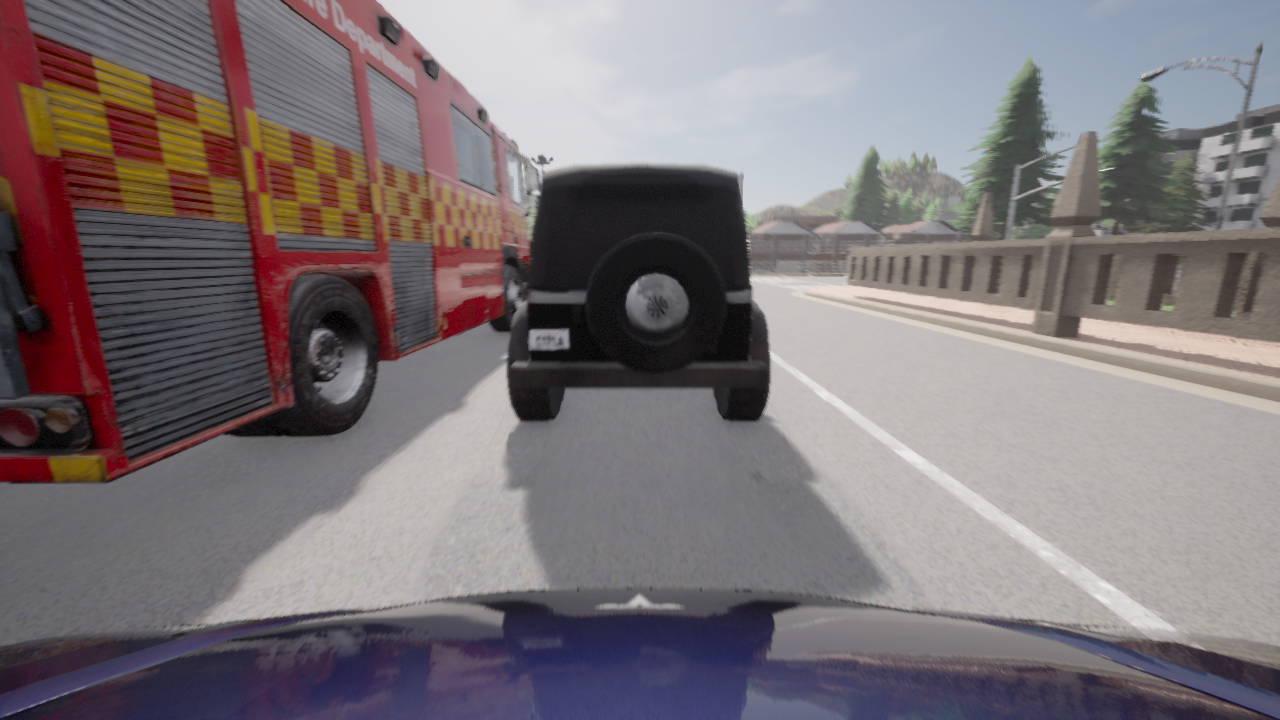cyclist: (0, 588, 1279, 719), (508, 163, 770, 420)
